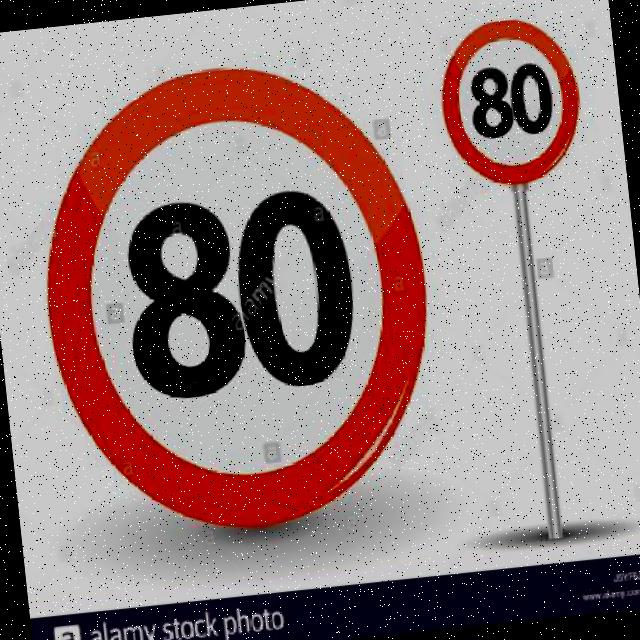Ograniczenie predkosci do 80: (434, 13, 585, 194)
